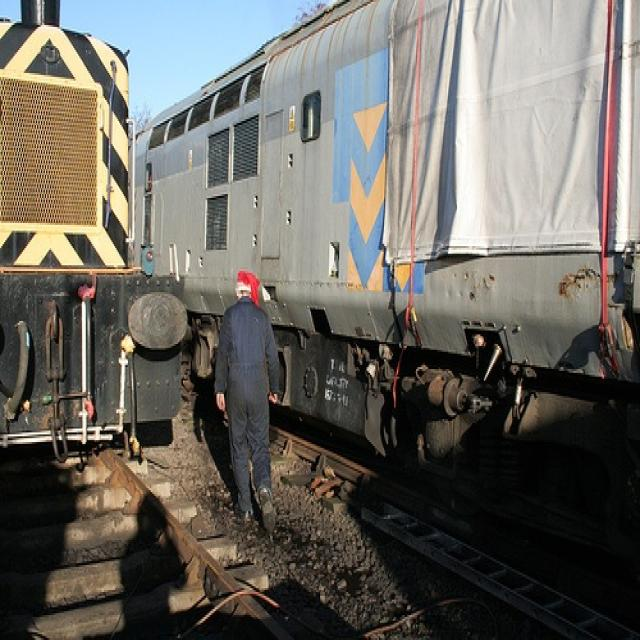train: (132, 2, 639, 500), (0, 0, 182, 432)
